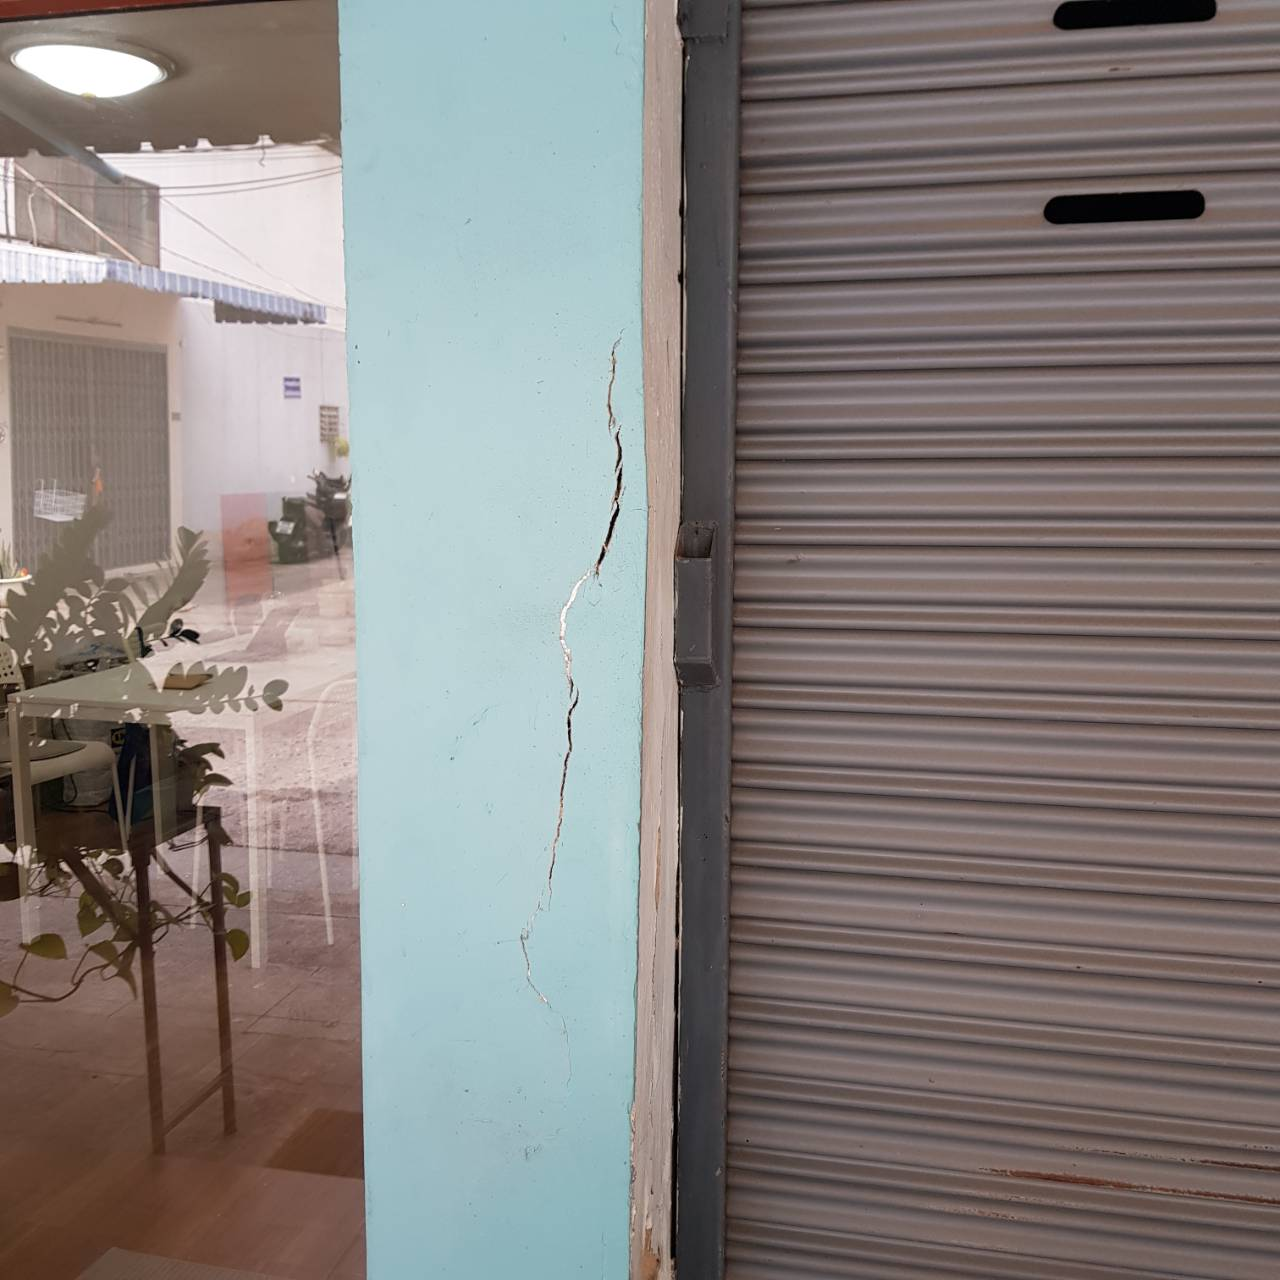Medium: (515, 324, 644, 949)
